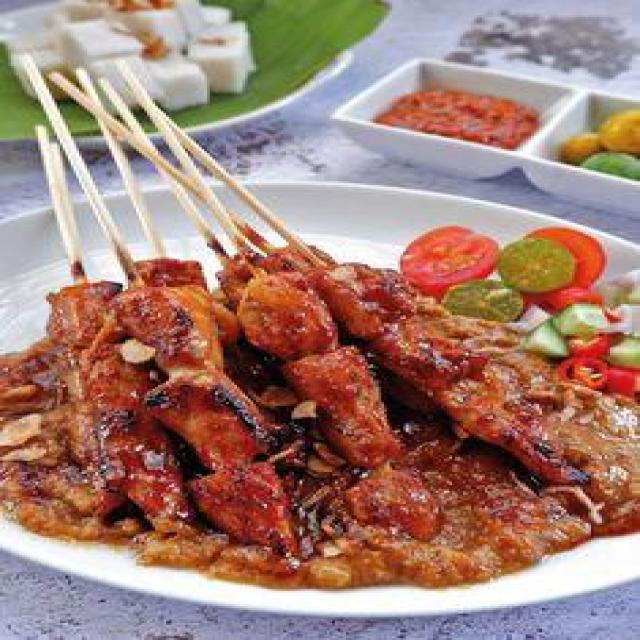Sate: (4, 96, 581, 544)
